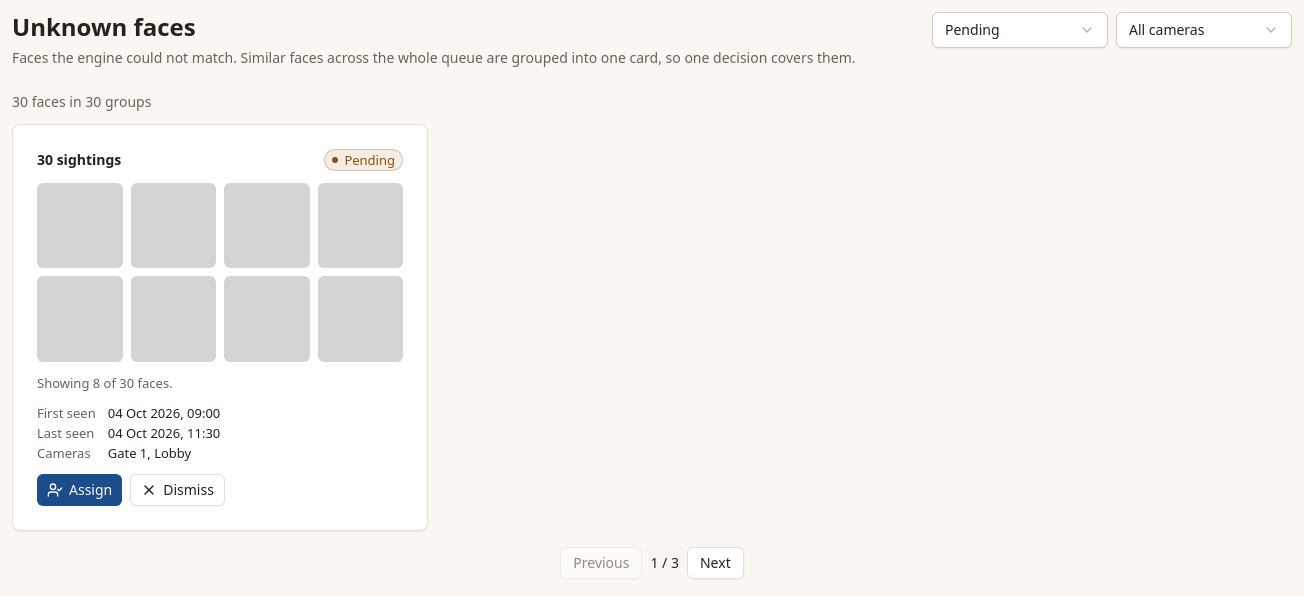
Scenario: Unknown faces screen (§13 screen 9, FR-27, Q58) › pages over groups, not faces
Check: the text "30 sightings" is shown, box [37,150,121,170]
Check: the text "1 / 3" is shown, box [650,553,679,573]
What coordinates should you click on to do the following:
click the button "Next"
I would click on:
 (715, 563)
Its box is [687,547,744,579].
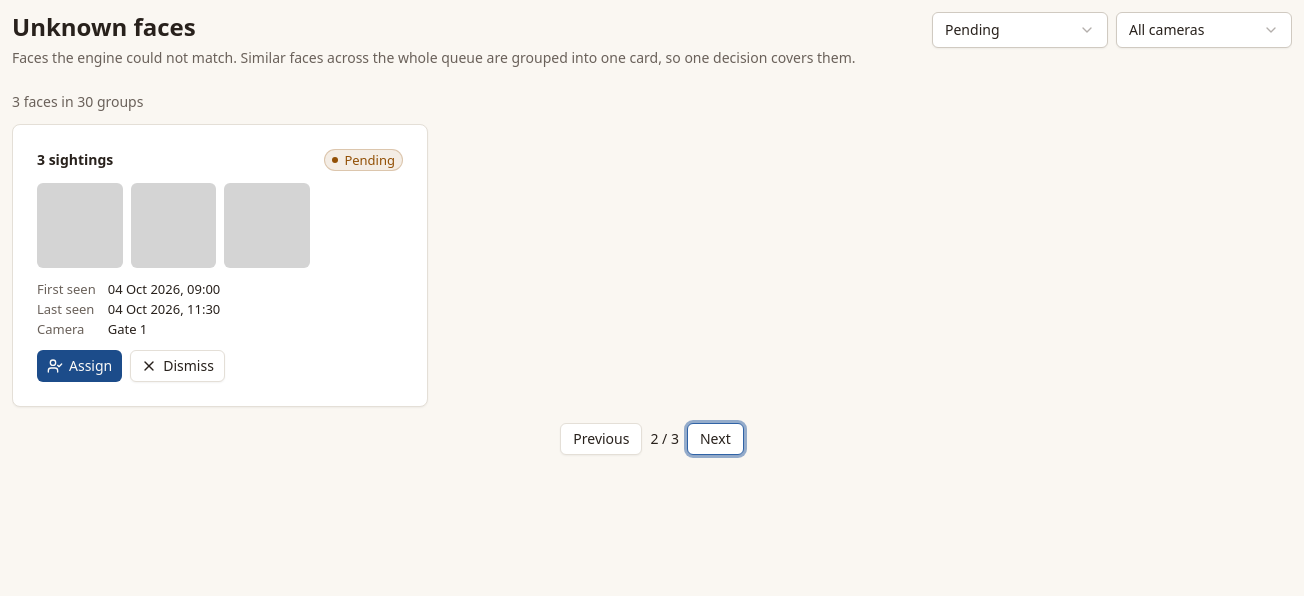
Check: the text "3 sightings" is shown, box [37,150,113,170]
Check: the text "2 / 3" is shown, box [650,429,679,449]
Check: the text "30 sightings" is gone
